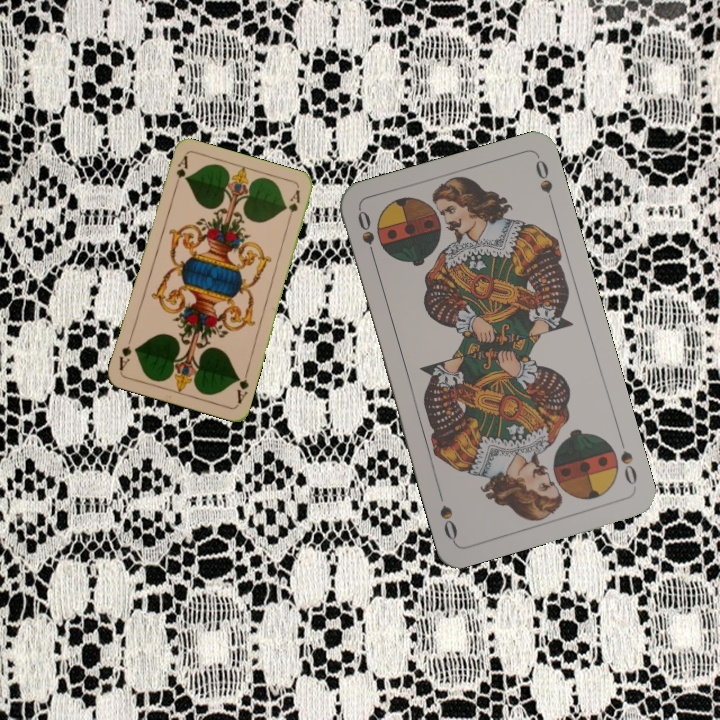GA: (170, 152, 190, 192), (233, 367, 252, 406)
SO: (353, 206, 379, 265), (615, 433, 640, 488)
